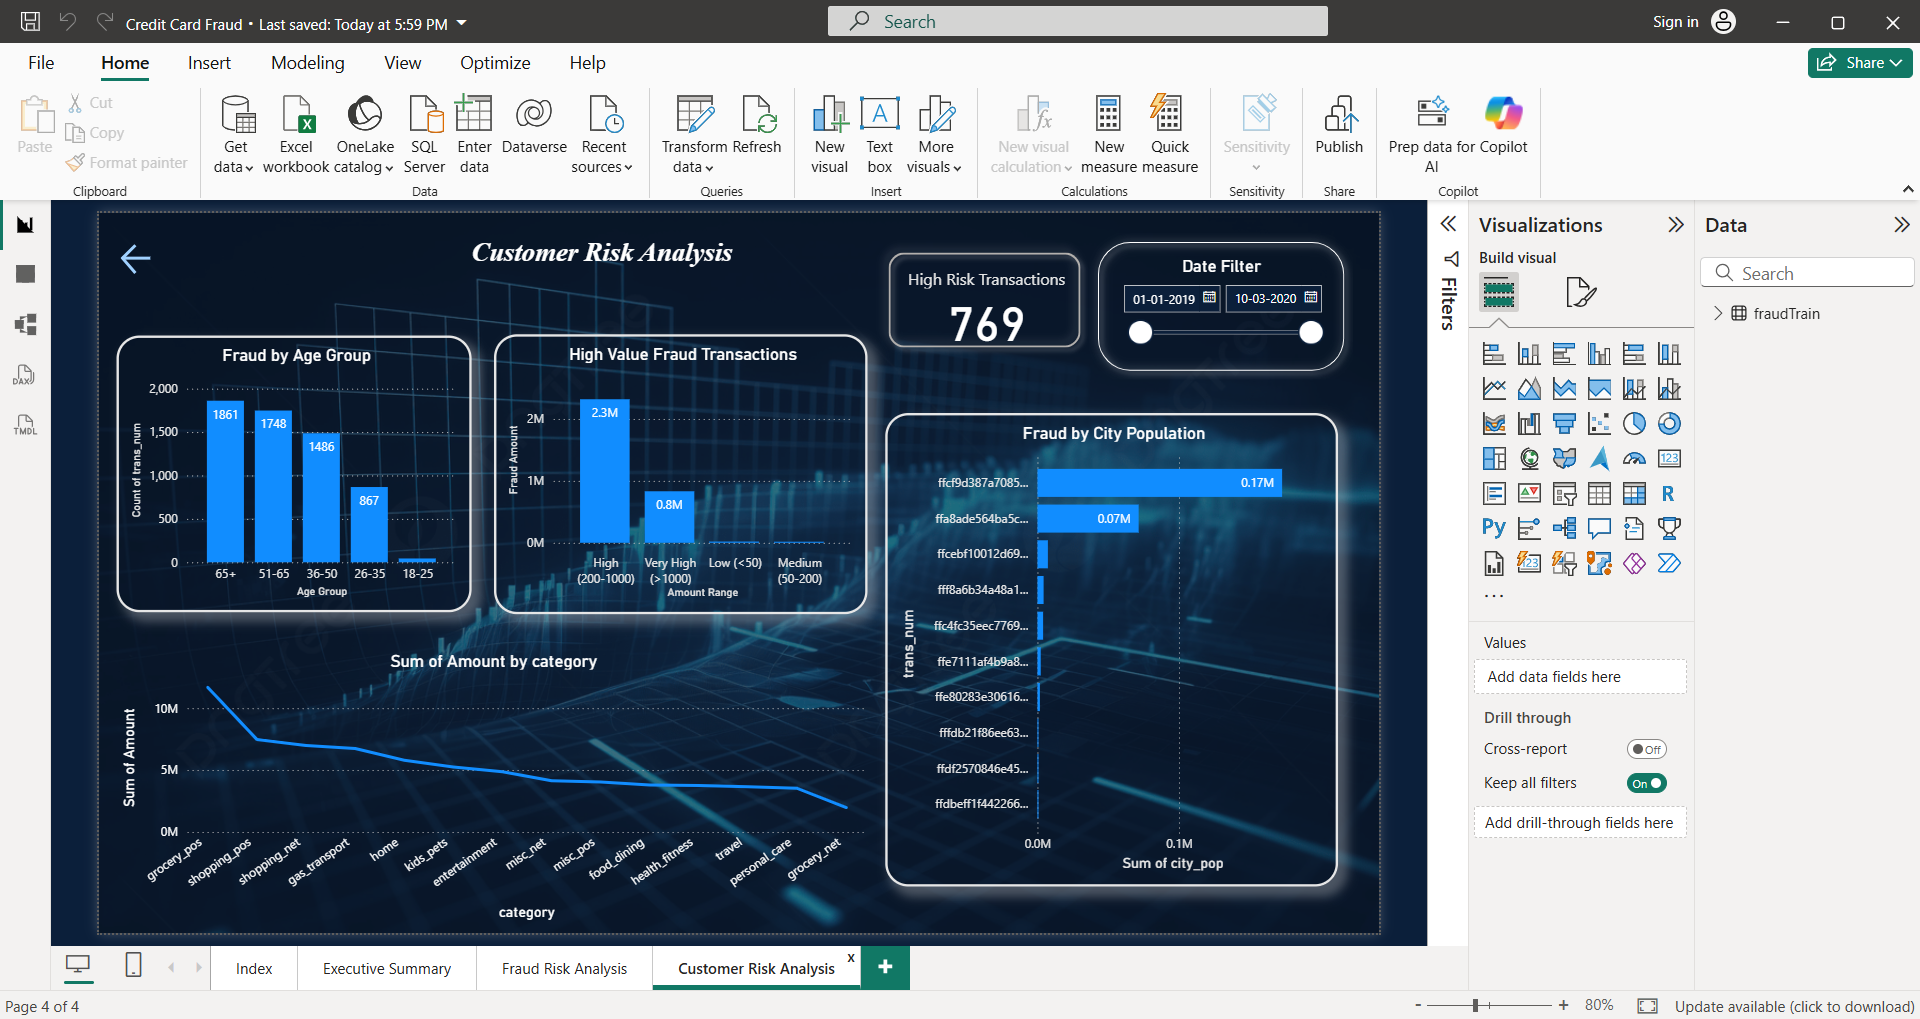

Layout of this report page (visuals, bound fields, positions):
{"tool":"powerbi","page":{"name":"Customer Risk Analysis","canvas":[1280,720],"ordinal":3},"visuals":[{"type":"textbox","box":[168.8,19.2,470.7,54.9],"z":0},{"type":"columnChart","title":"Fraud by Age Group","fields":{"Category":["fraudTrain.Age Group"],"Y":["CountNonNull(fraudTrain.trans_num)"]},"box":[39.8,120.8,355.4,277.2],"z":1000},{"type":"barChart","title":"Fraud by City Population","fields":{"Y":["Sum(fraudTrain.city_pop)"],"Category":["fraudTrain.trans_num"]},"box":[786.3,200.3,452.8,473.4],"z":2000},{"type":"columnChart","title":"High Value Fraud Transactions","fields":{"Category":["fraudTrain.Amount Range"],"Y":["fraudTrain.Fraud Amount"]},"box":[395.2,120.8,373.2,279.9],"z":3000},{"type":"cardVisual","fields":{"Data":["fraudTrain.High Risk Transactions"]},"box":[768.4,19.2,234.6,137.2],"z":4000},{"type":"slicer","title":"Date Filter","fields":{"Values":["fraudTrain.trans_date_trans_time"]},"box":[1031.9,35.7,219.6,85.1],"z":5000},{"type":"lineChart","fields":{"Category":["fraudTrain.category"],"Y":["Sum(fraudTrain.Amount)"]},"box":[17.8,437.7,754.7,274.4],"z":6000},{"type":"actionButton","box":[23.3,26.1,42.5,39.8],"z":7000}]}

Visuals, with their boxes on the page's 1280x720 design canvas (x1, y1, x2, y2). These are canvas units, not pixel positions in the 1920x1019 screenshot, which may show the page scaled, cropped or inside an application window:
textbox: left=169, top=19, right=640, bottom=74
"Fraud by Age Group" columnChart: left=40, top=121, right=395, bottom=398
"Fraud by City Population" barChart: left=786, top=200, right=1239, bottom=674
"High Value Fraud Transactions" columnChart: left=395, top=121, right=768, bottom=401
cardVisual - fraudTrain.High Risk Transactions: left=768, top=19, right=1003, bottom=156
"Date Filter" slicer: left=1032, top=36, right=1252, bottom=121
lineChart - fraudTrain.category x Sum(fraudTrain.Amount): left=18, top=438, right=772, bottom=712
actionButton: left=23, top=26, right=66, bottom=66
